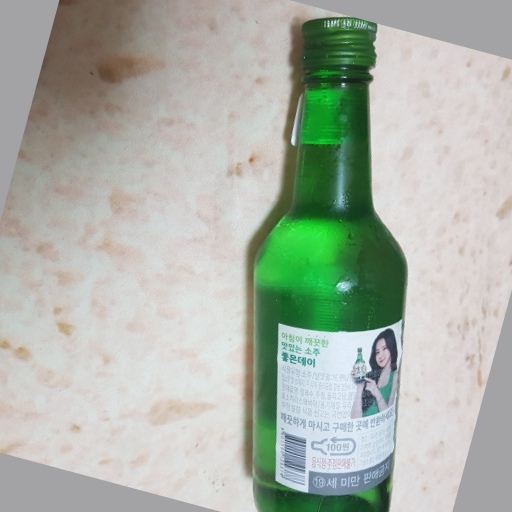Glass_0: (245, 17, 410, 512)
